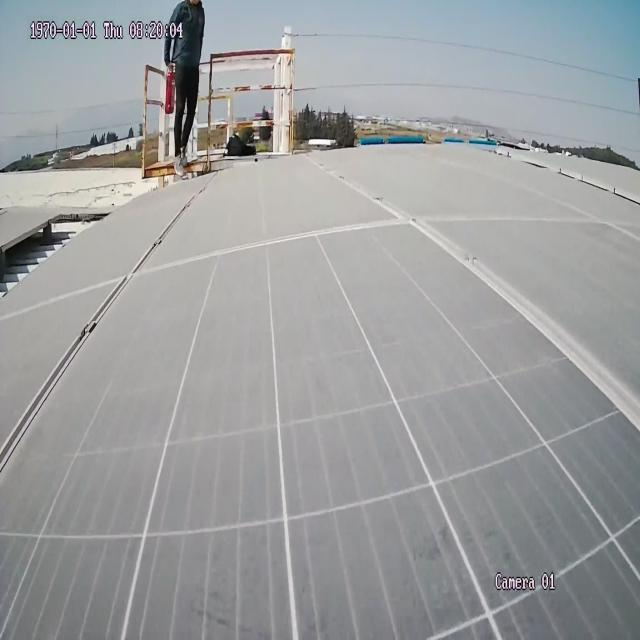interior panel: (312, 163, 638, 429), (0, 179, 214, 481), (156, 216, 391, 272)
outher panel: (0, 221, 84, 305)
